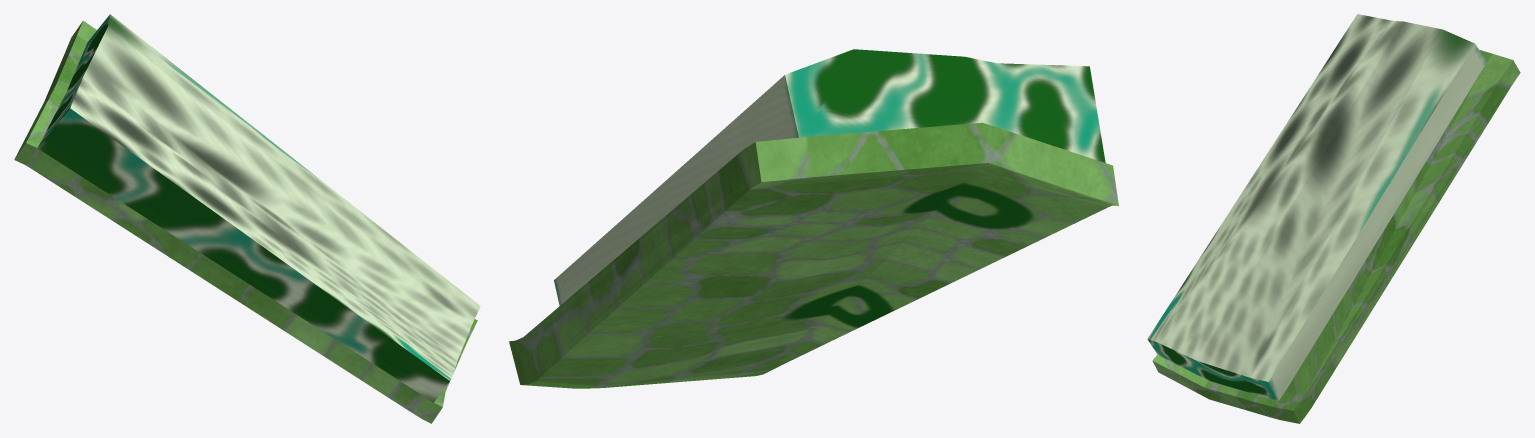
File: Epidermis_Bawah.fbx
3 views of the same model, side by side, from view 1: azimuth 30°, elevation 25°; view 2: azimuth 150°, elevation 25°; view 3: azimuth 270°, elevation 25° (orthographic). The views are drawn at different scales.
Visible parts, largest first — view 1: Epidermis_Bawah; view 2: Epidermis_Bawah; view 3: Epidermis_Bawah.
Part boxes in pixels (bbox=[...]): Epidermis_Bawah: bbox=[14, 14, 480, 423]; Epidermis_Bawah: bbox=[509, 49, 1118, 388]; Epidermis_Bawah: bbox=[1147, 14, 1520, 423].
Size of the model in its own units: 110 by 85.87 by 100.
